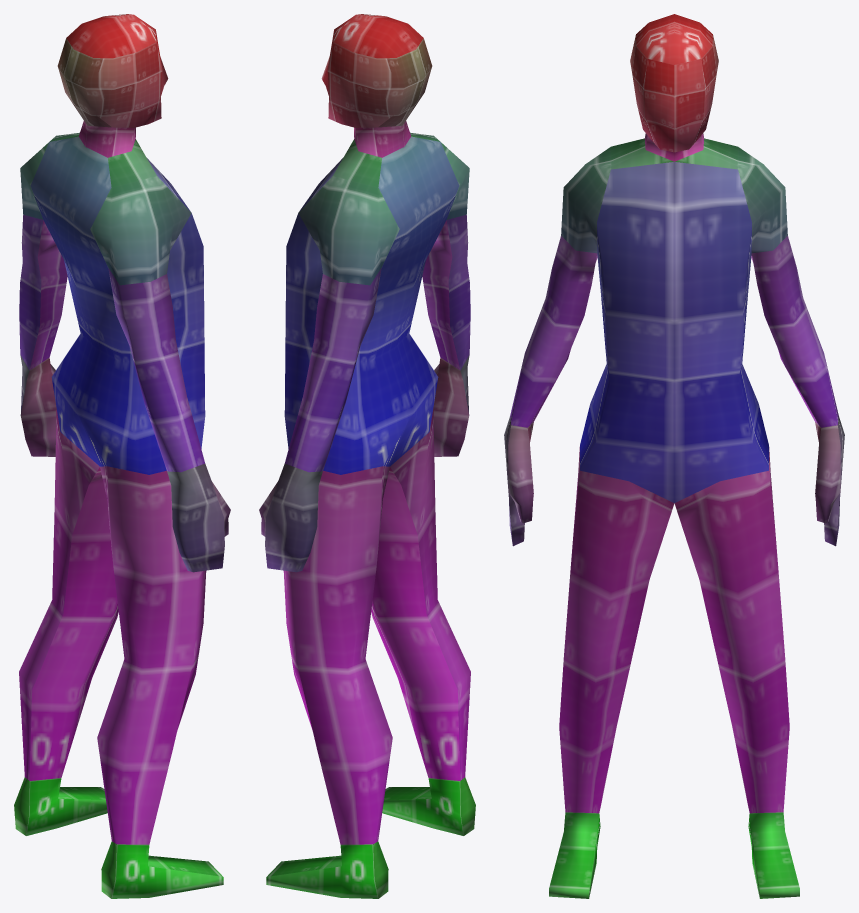
File: man3.obj
3 views of the same model, side by side, from view 1: azimuth 30°, elevation 25°; view 2: azimuth 150°, elevation 25°; view 3: azimuth 270°, elevation 25° (orthographic). The views are drawn at different scales.
Parts seen in each view (by area): view 1: man_Cube.001; view 2: man_Cube.001; view 3: man_Cube.001.
Part boxes in pixels (left/top/right/bottom): man_Cube.001: left=14, top=14, right=230, bottom=898; man_Cube.001: left=259, top=14, right=475, bottom=898; man_Cube.001: left=504, top=14, right=844, bottom=898.
Size of the model in its own units: 0.5122 by 3.14 by 1.14.
Materials: 1 (1 with a texture image).
